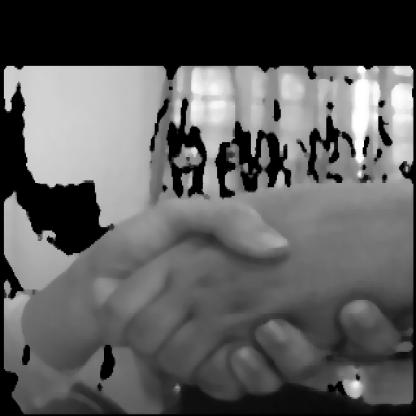handshake: (23, 165, 414, 413)
